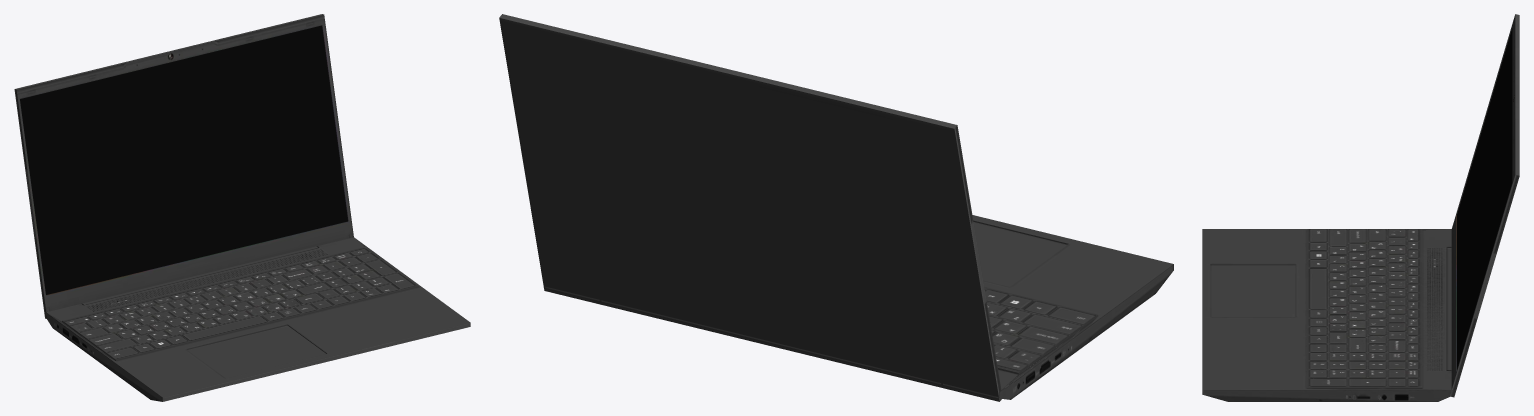
The model's file is Office_laptop.fbx.
3 renders of one model, left to right at view 1: azimuth 30°, elevation 25°; view 2: azimuth 150°, elevation 25°; view 3: azimuth 270°, elevation 25°, orthographic. The views are drawn at different scales.
Visible parts, largest first — view 1: Laptop; view 2: Laptop; view 3: Laptop.
Part boxes in pixels (x1,y1,x2,y2): Laptop: (14,14,470,401); Laptop: (499,14,1173,401); Laptop: (1202,14,1519,401).
Size of the model in its own units: 44.97 by 29.63 by 37.54.
2 materials, 1 textured.
